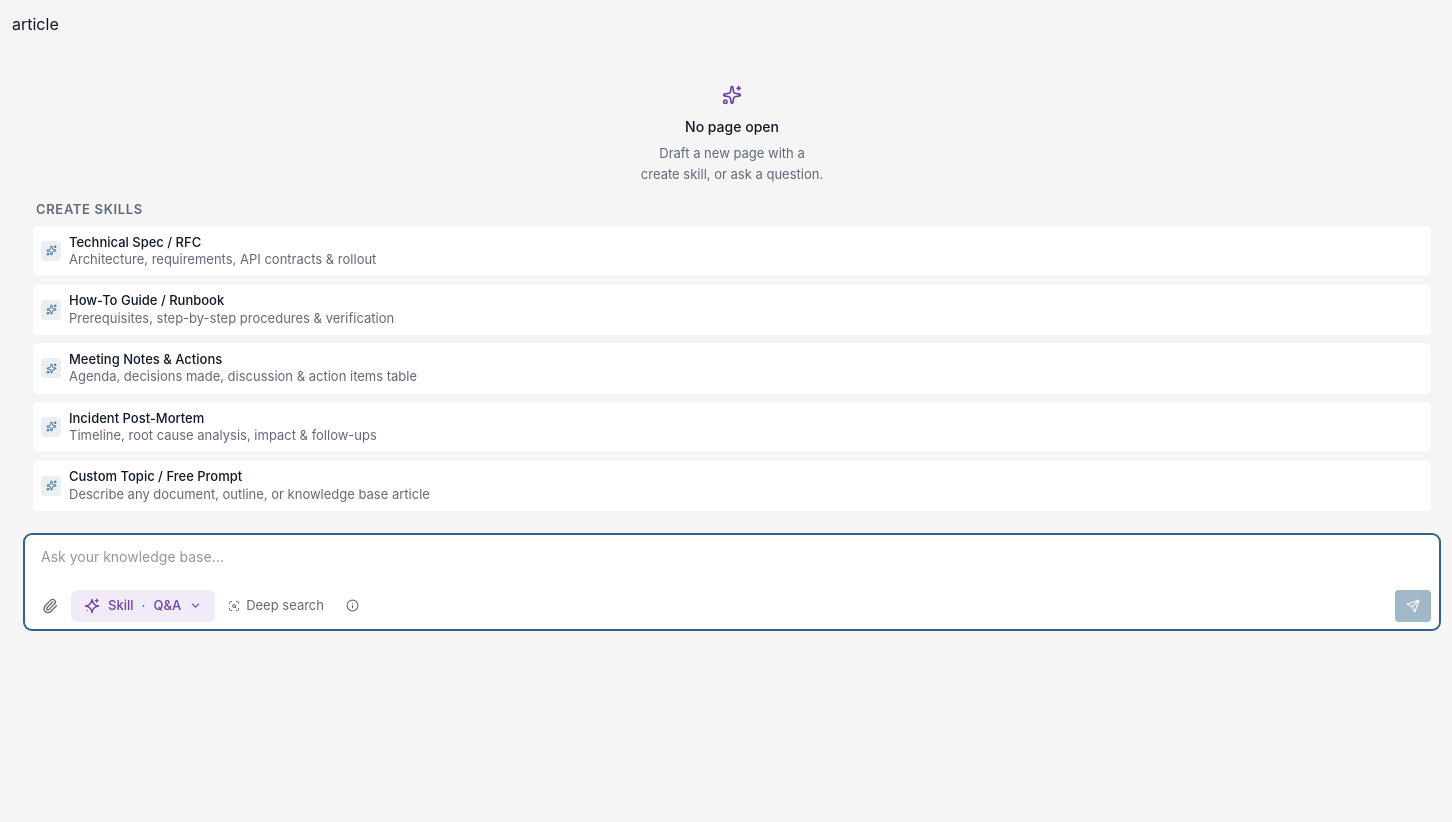
docked Assistant action selector › does not offer Summarize or Quality in the article Assistant
The width and height of the screenshot is (1452, 822).
Step 1. Press the mouse on the button with test id "assistant-action-select" → [143, 606], box 71,590 -> 215,622
(page scrolled)
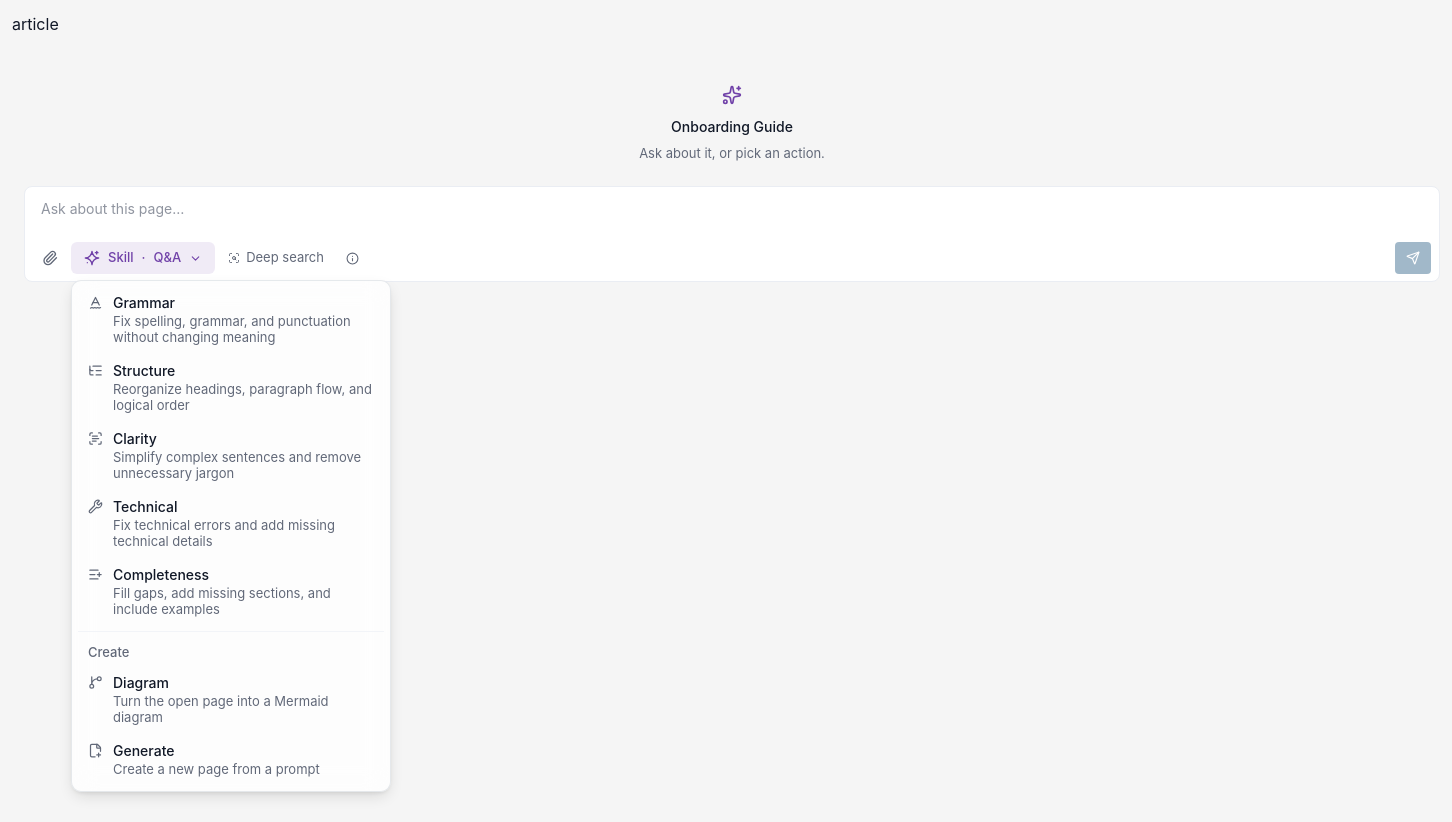
Expected: the menu item with test id "assistant-action-generate" is shown, 88,742 -> 320,777
